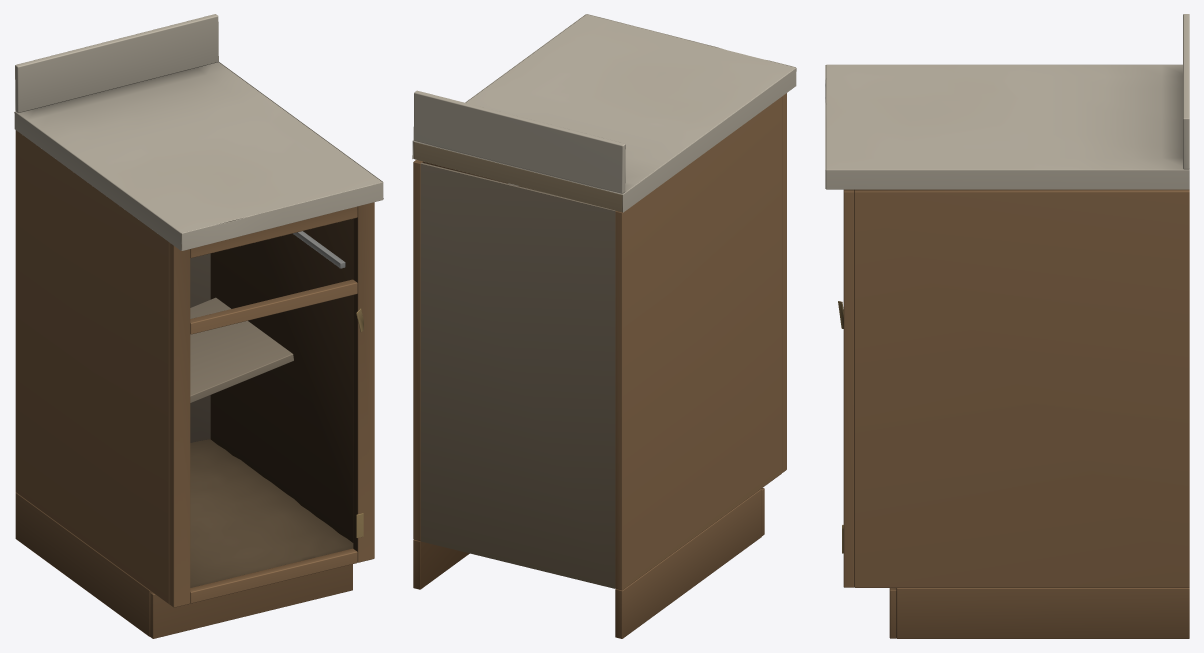
The model's file is kitchen_base_cab_45.glb.
3 views of the same model, side by side, from view 1: azimuth 30°, elevation 25°; view 2: azimuth 150°, elevation 25°; view 3: azimuth 270°, elevation 25° (orthographic). The views are drawn at different scales.
Parts seen in each view (by area): view 1: kitchen_base_cab_45; view 2: kitchen_base_cab_45; view 3: kitchen_base_cab_45.
Boxes of the visible parts, <box> form: kitchen_base_cab_45: <box>14,14,383,638</box>; kitchen_base_cab_45: <box>412,14,796,638</box>; kitchen_base_cab_45: <box>825,14,1189,638</box>.
Size of the model in its own units: 0.4536 by 1.02 by 0.6466.
